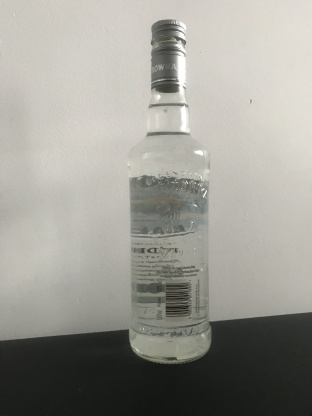nakretka: (149, 19, 187, 93)
